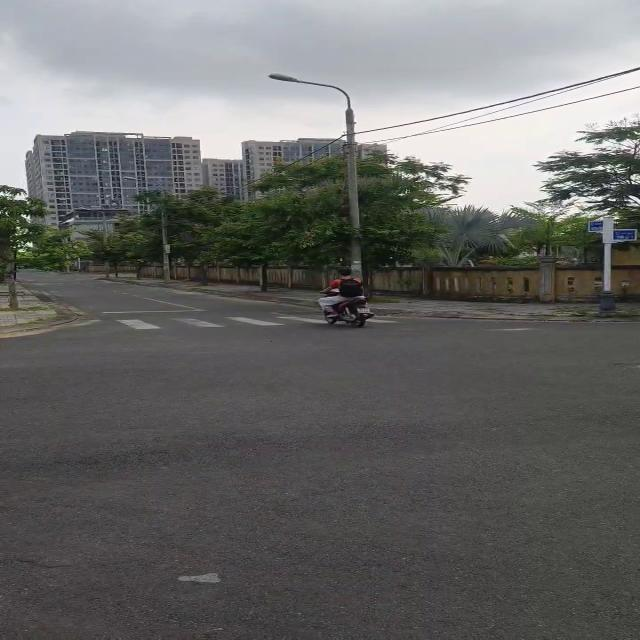without_helmet: (334, 265, 359, 281)
